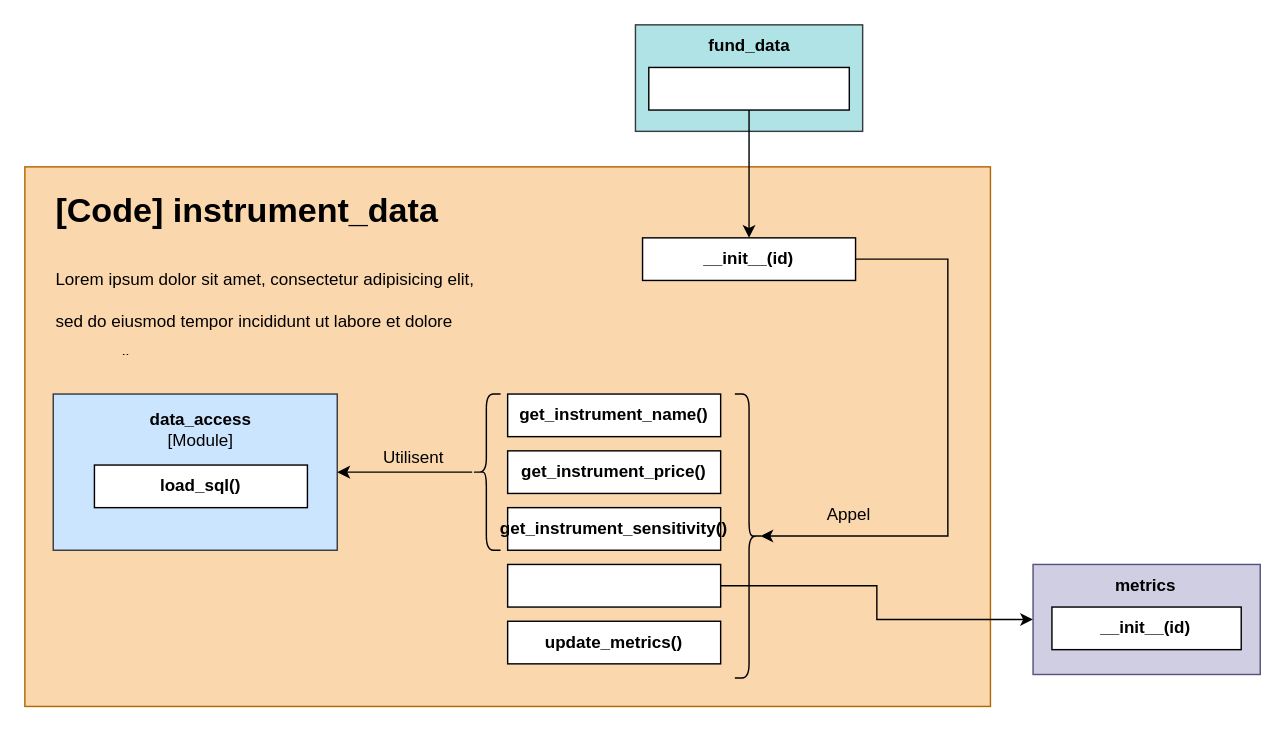
Some shapes in this 1285 by 731 pixel diagram are drawn without their labels. Here are the shapes that lost their labels. From the top down, the centre of each, then its label:
At (748,88): "update_inst_data()".
At (613,585): "update_states(dates)".
